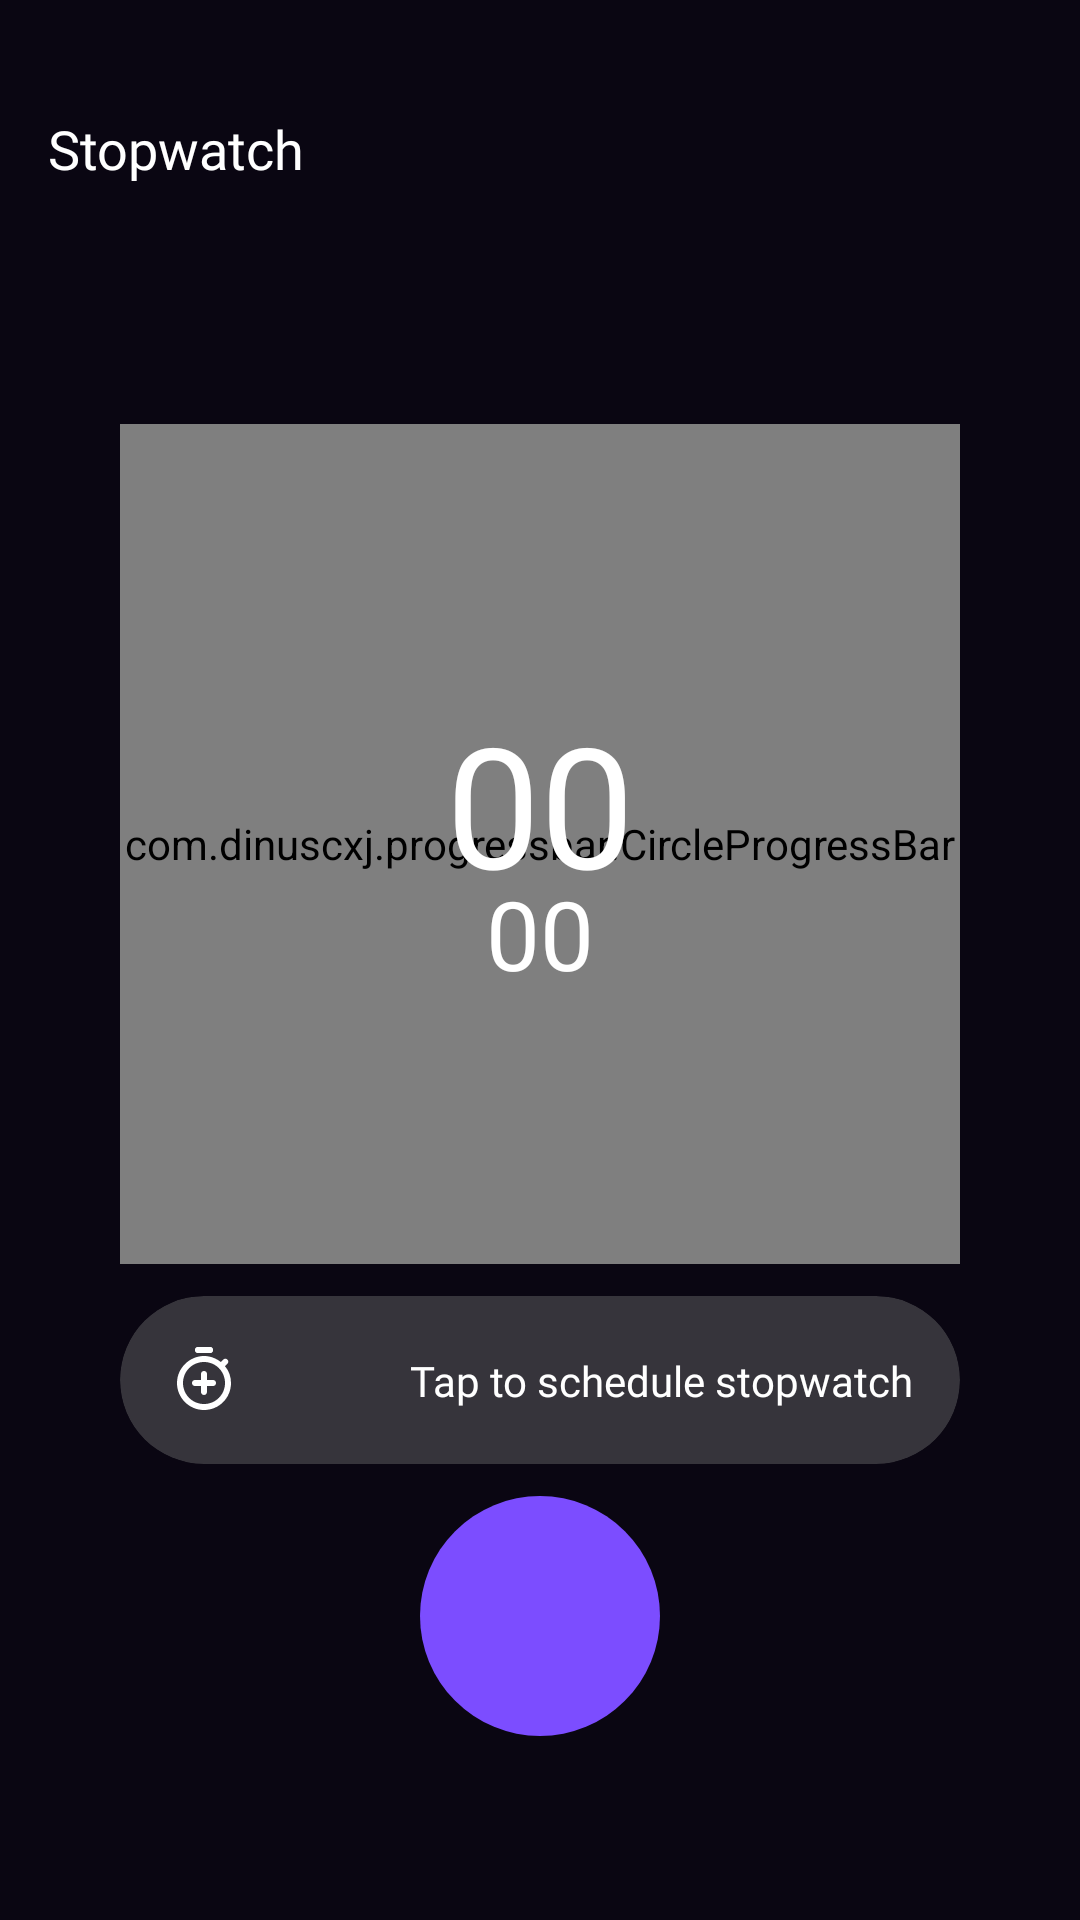

Locate icon controls on the screen. Image size 1080px x 1920px, boxes as (x1, y1, x2, y2).
timer add: (177, 1347, 231, 1410)
